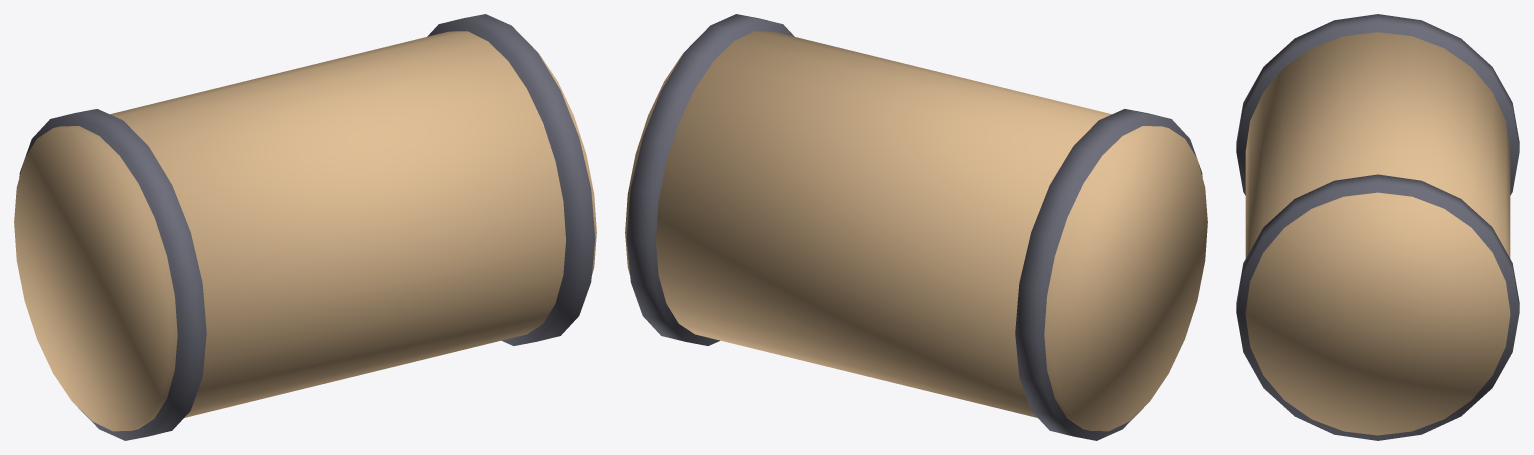
File: foregrip_cork.glb
3 views of the same model, side by side, from view 1: azimuth 30°, elevation 25°; view 2: azimuth 150°, elevation 25°; view 3: azimuth 270°, elevation 25° (orthographic). The views are drawn at different scales.
Visible parts, largest first — view 1: body, c0, c1; view 2: body, c0, c1; view 3: body, c1, c0.
Boxes of the visible parts, x1=… form: body: x1=14, y1=31, x2=596, y2=431; c0: x1=19, y1=109, x2=206, y2=440; c1: x1=427, y1=14, x2=595, y2=345; body: x1=625, y1=31, x2=1207, y2=431; c0: x1=1015, y1=109, x2=1202, y2=440; c1: x1=626, y1=14, x2=794, y2=345; body: x1=1245, y1=32, x2=1510, y2=435; c1: x1=1236, y1=174, x2=1519, y2=440; c0: x1=1236, y1=14, x2=1519, y2=195.
Bounding box in the file's own units: 0.45 × 0.306 × 0.306.
